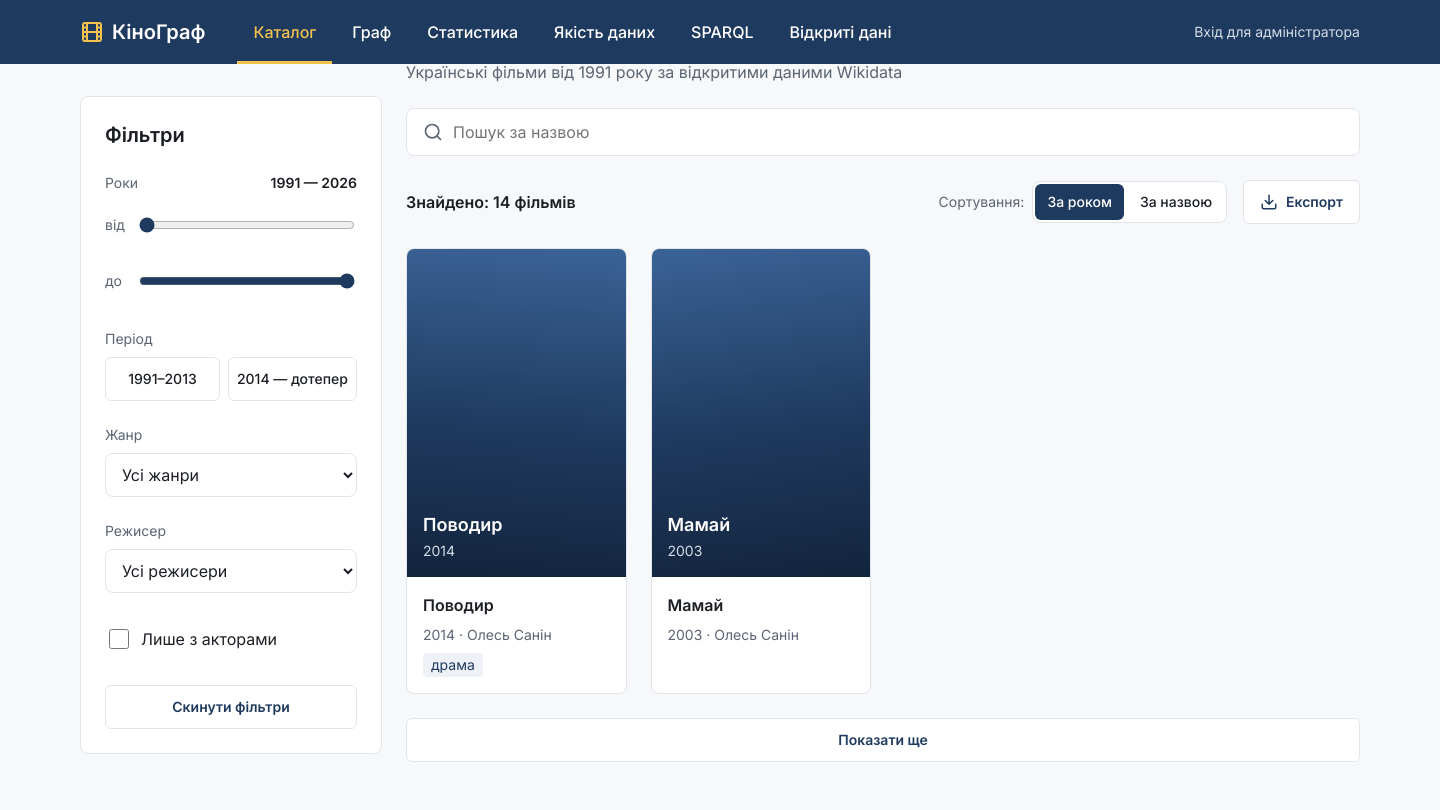
Scenario: каталог на телефоні › довантажує наступну сторінку кнопкою «Показати ще»
(page scrolled)
Click the button "Показати ще": (883, 740) [406, 718, 1360, 762]
(page scrolled)
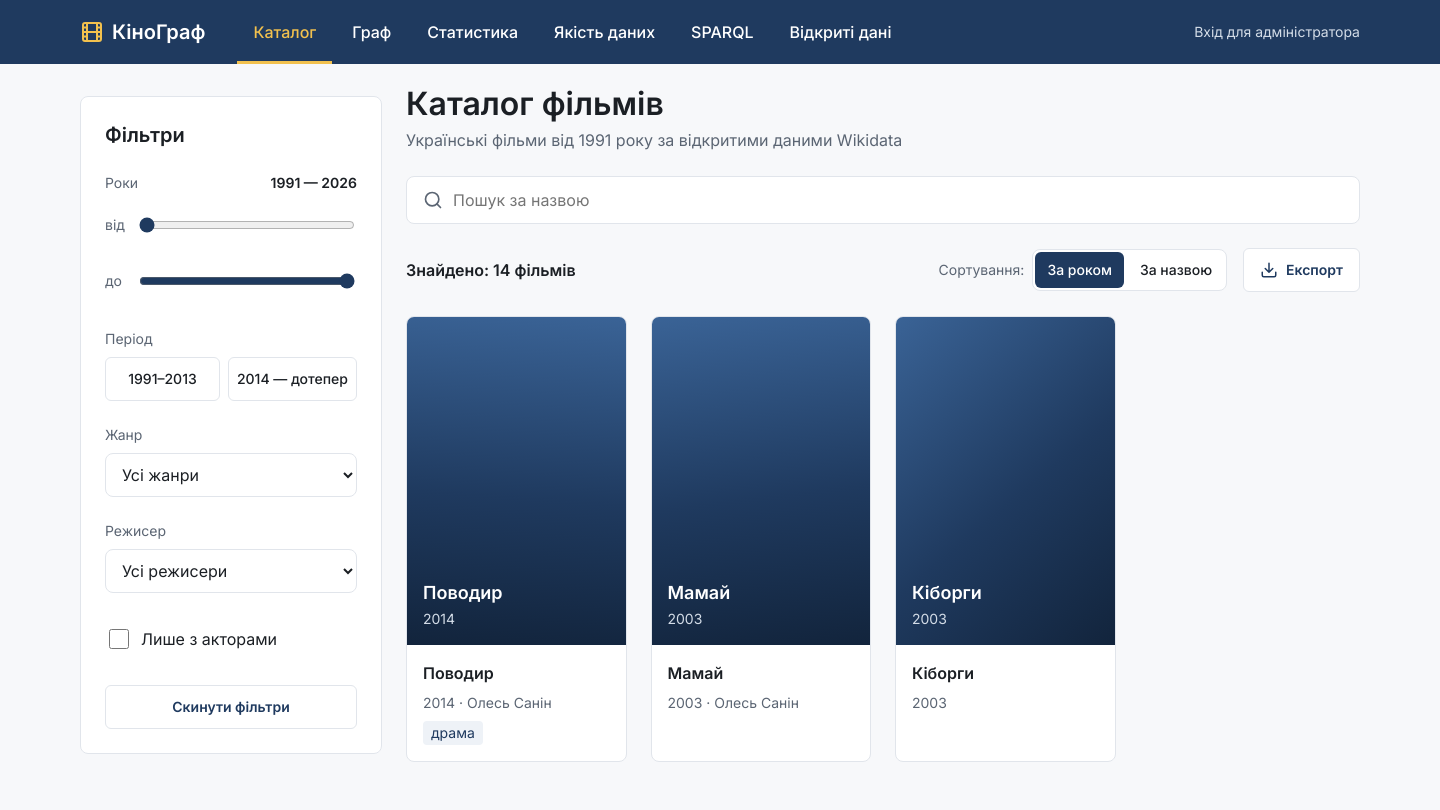
expect the 2nd text "Поводир" is shown: met, box [423, 663, 494, 683]
expect the 2nd text "Кіборги" is shown: met, box [912, 663, 974, 683]
expect the button "Показати ще" is gone: met
